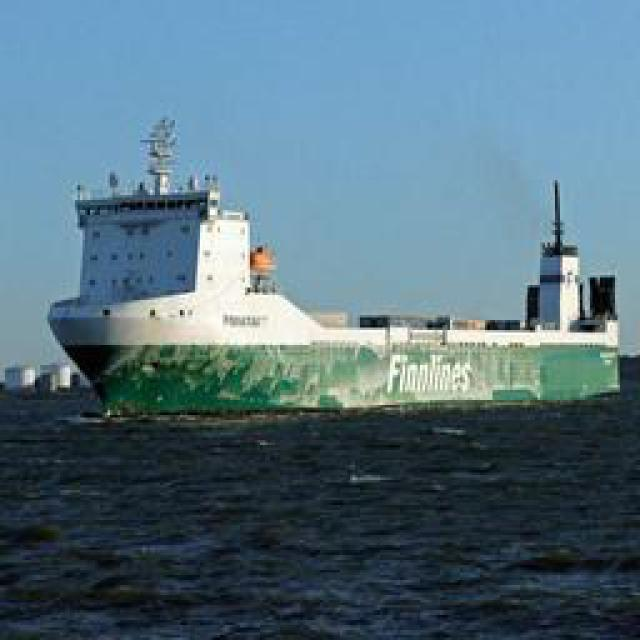Ship: (55, 154, 605, 417)
